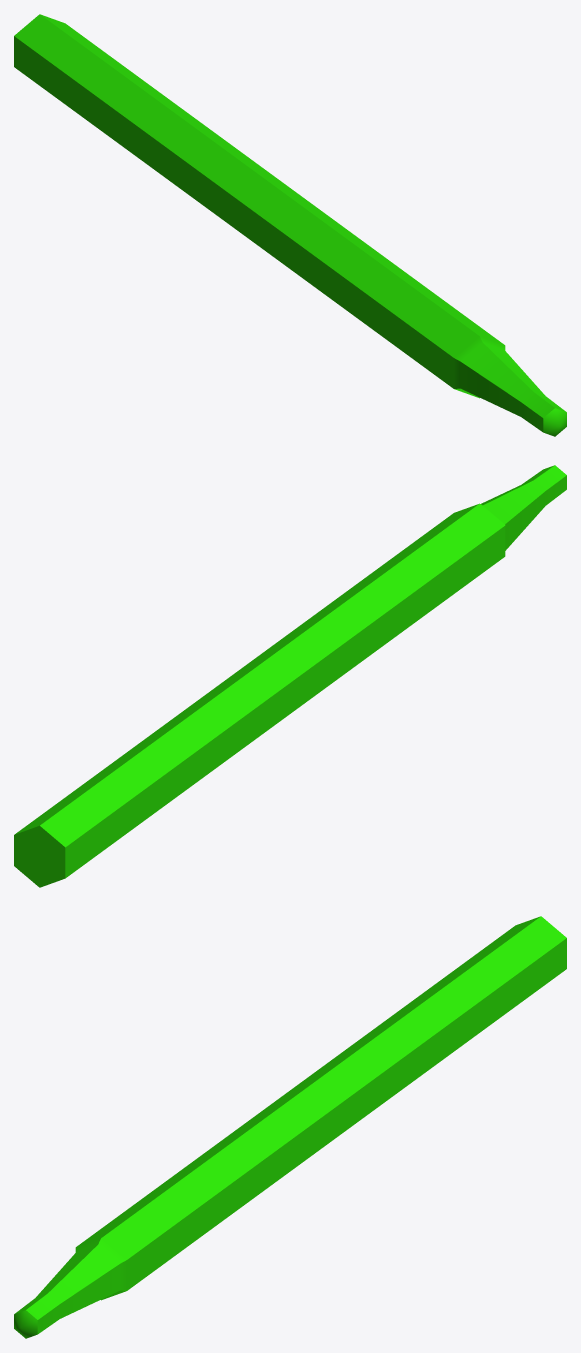
File: Felt_Pen_03.fbx
3 renders of one model, top to bottom at view 1: azimuth 30°, elevation 25°; view 2: azimuth 150°, elevation 25°; view 3: azimuth 330°, elevation 25°, orthographic.
Parts seen in each view (by area): view 1: Felt_Pen_03; view 2: Felt_Pen_03; view 3: Felt_Pen_03.
Part boxes in pixels (x1=…): Felt_Pen_03: x1=14, y1=14, x2=566, y2=436; Felt_Pen_03: x1=14, y1=465, x2=566, y2=887; Felt_Pen_03: x1=14, y1=916, x2=566, y2=1338.
Size of the model in its own units: 0.8315 by 0.9602 by 14.57.
